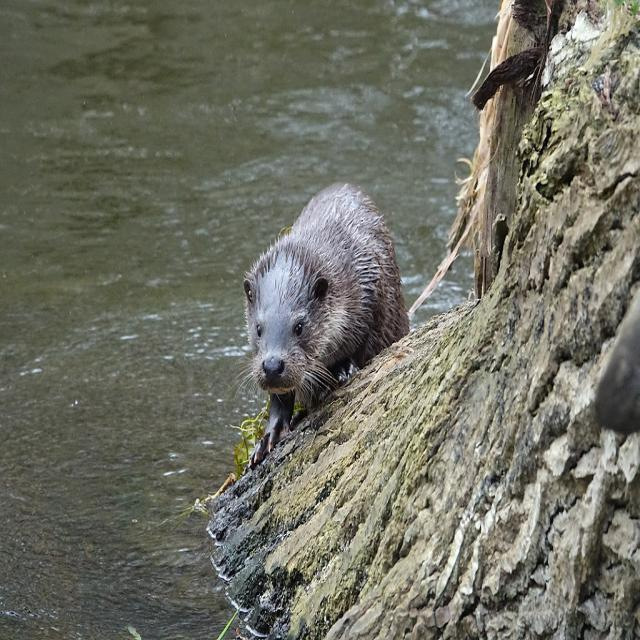otter: (246, 186, 406, 417)
